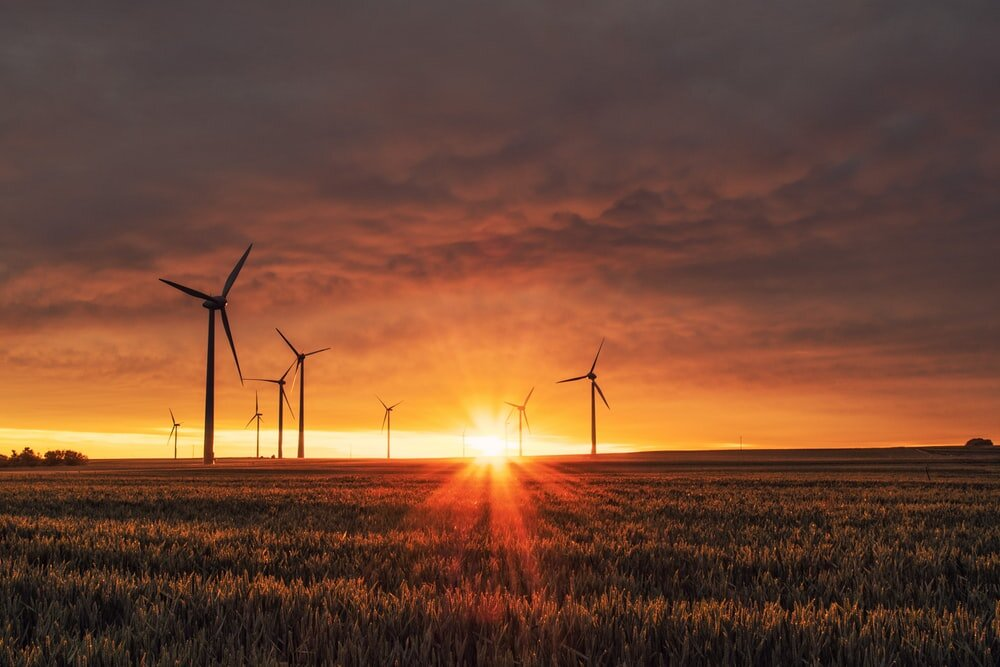working: (156, 240, 253, 390)
